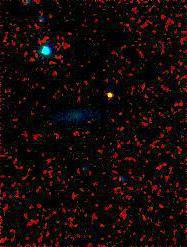star: (92, 80, 122, 110)
